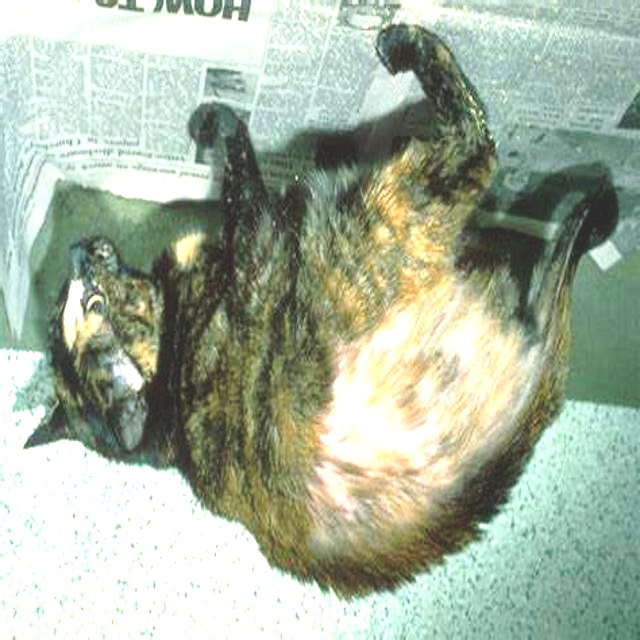hairloss: (334, 332, 541, 513)
